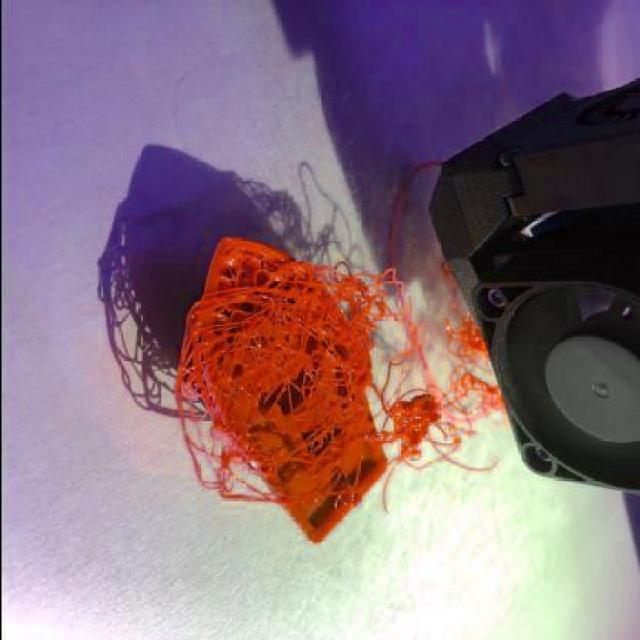spaghetti: (176, 260, 507, 514)
